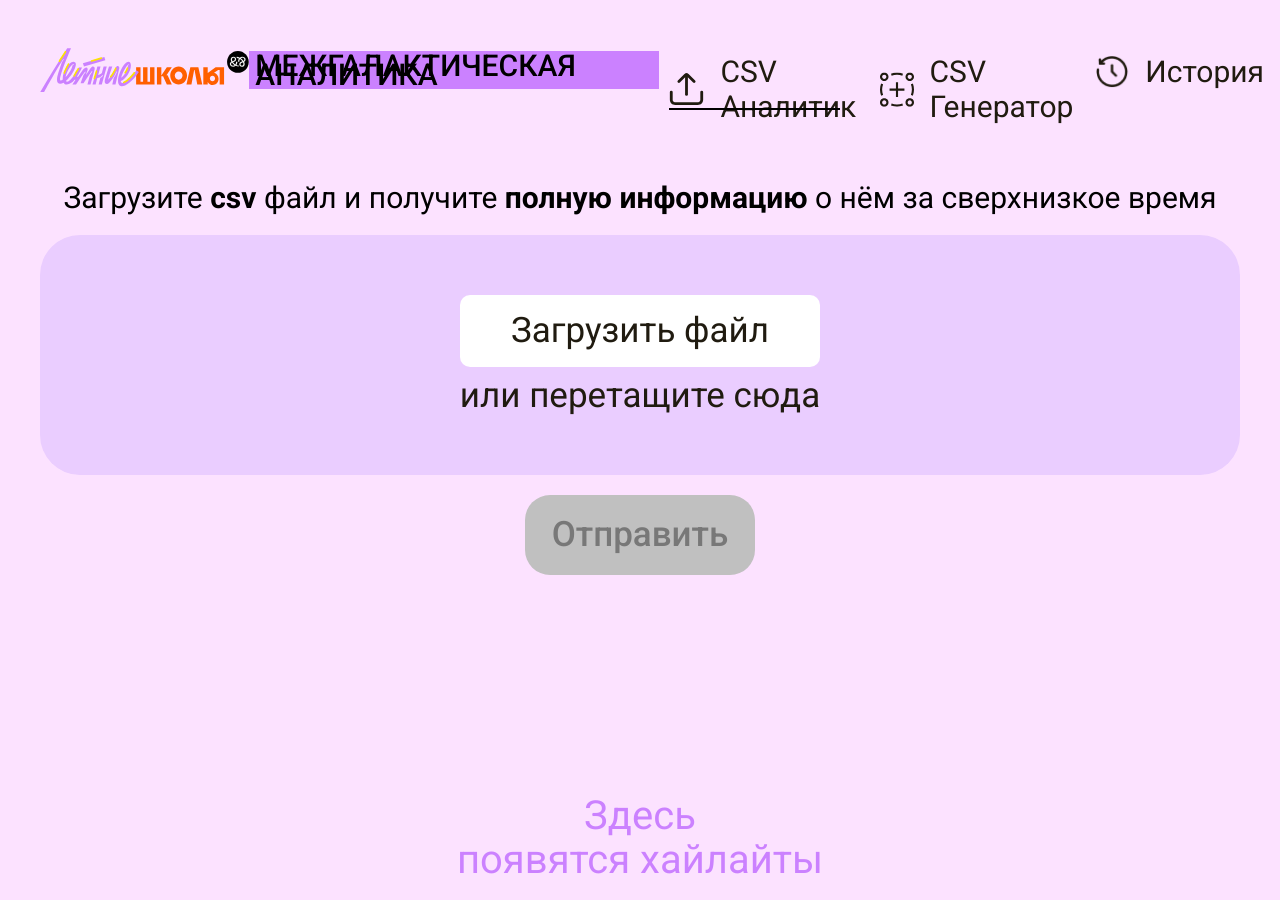
Test: MenuButton › переходит на History при клике
What coordinates should you click on to do the following:
click the link "История"
I would click on:
 (1180, 72)
Its box is [1095,54,1264,89].
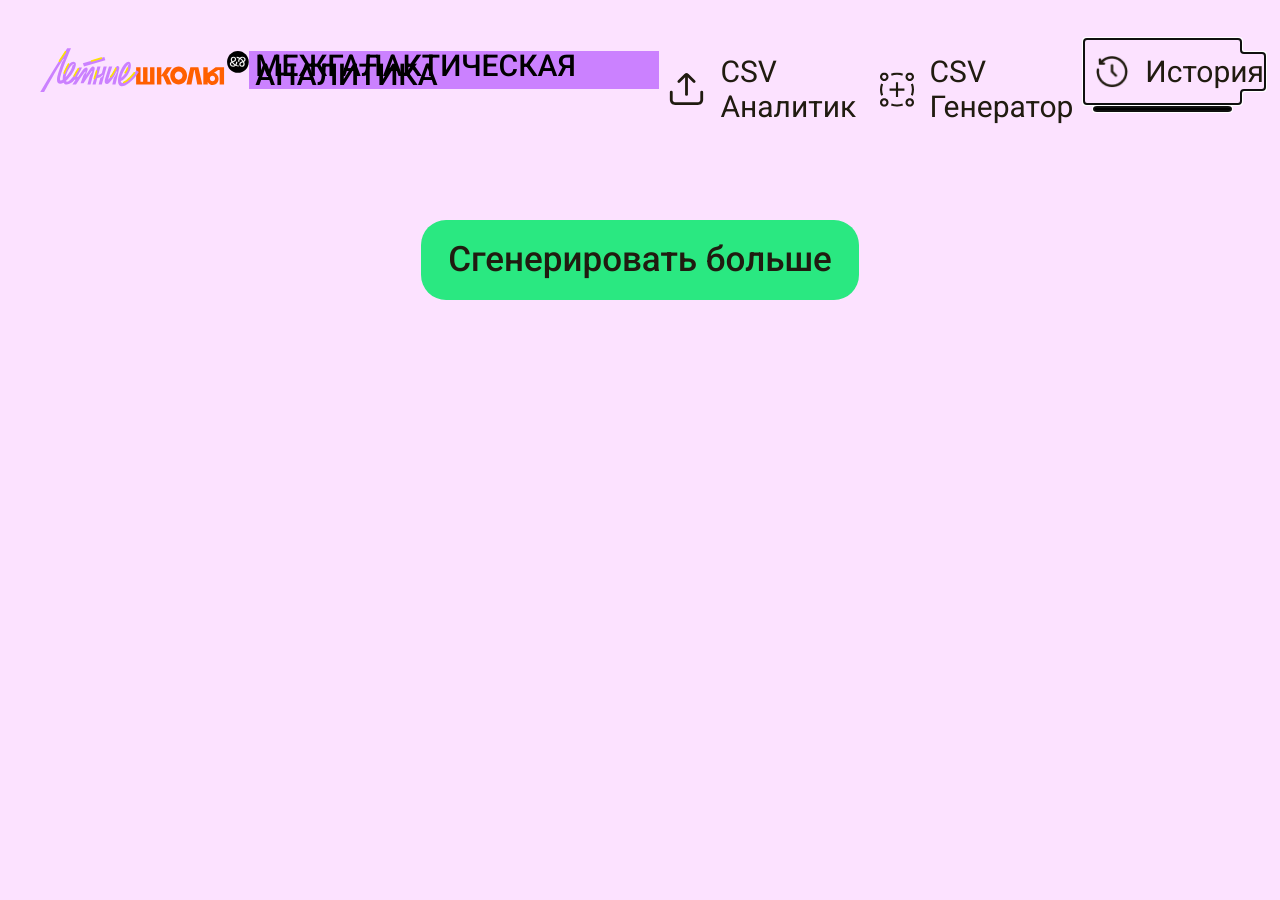
Expected: the element with test id "history-page" is shown, [421,220,859,300]
